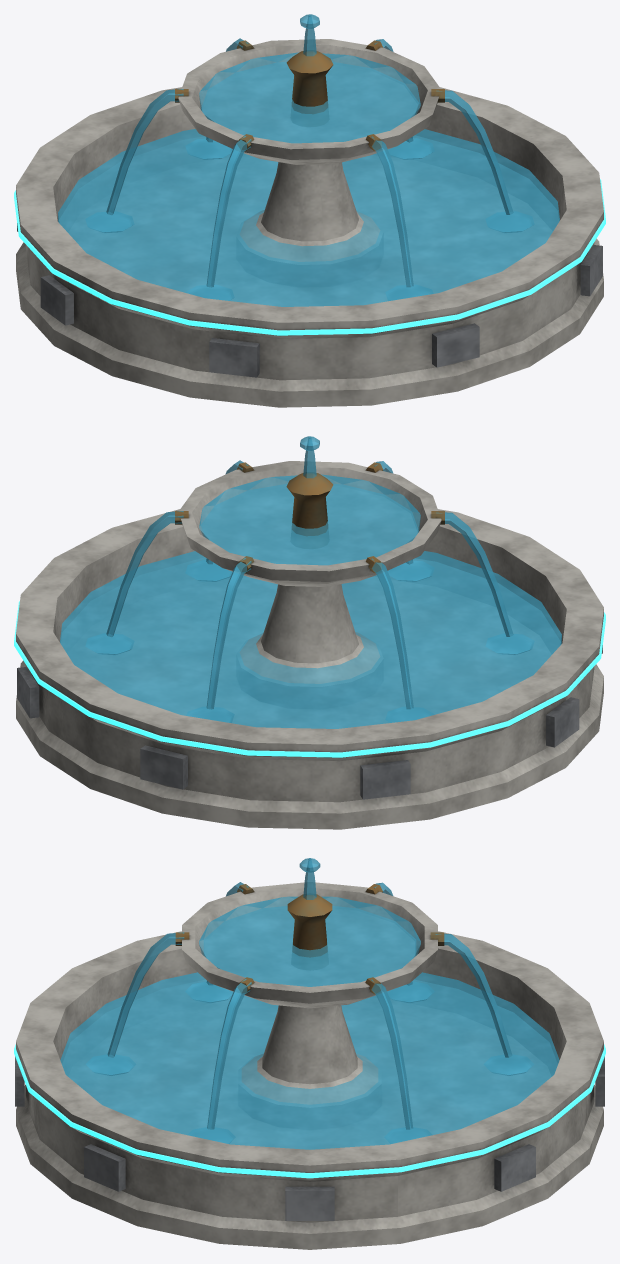
Rendered from fuente_plaza.fbx.
The picture shows the model from 3 angles, top to bottom: view 1: azimuth 30°, elevation 25°; view 2: azimuth 150°, elevation 25°; view 3: azimuth 270°, elevation 25°; orthographic projection.
Parts seen in each view (by area): view 1: fuente_plaza, fuente_plaza_agua, fuente_plaza_neon; view 2: fuente_plaza, fuente_plaza_agua, fuente_plaza_neon; view 3: fuente_plaza, fuente_plaza_agua, fuente_plaza_neon.
Part boxes in pixels (<box>): fuente_plaza: <box>16,39,603,407</box>; fuente_plaza_agua: <box>58,14,559,306</box>; fuente_plaza_neon: <box>14,179,605,335</box>; fuente_plaza: <box>16,461,603,829</box>; fuente_plaza_agua: <box>60,436,561,728</box>; fuente_plaza_neon: <box>14,601,605,757</box>; fuente_plaza: <box>15,882,604,1249</box>; fuente_plaza_agua: <box>60,858,559,1149</box>; fuente_plaza_neon: <box>14,1044,605,1178</box>.
Bounding box in the file's own units: 6.04 × 3 × 6.04.
Materials: 3 (3 with a texture image).
